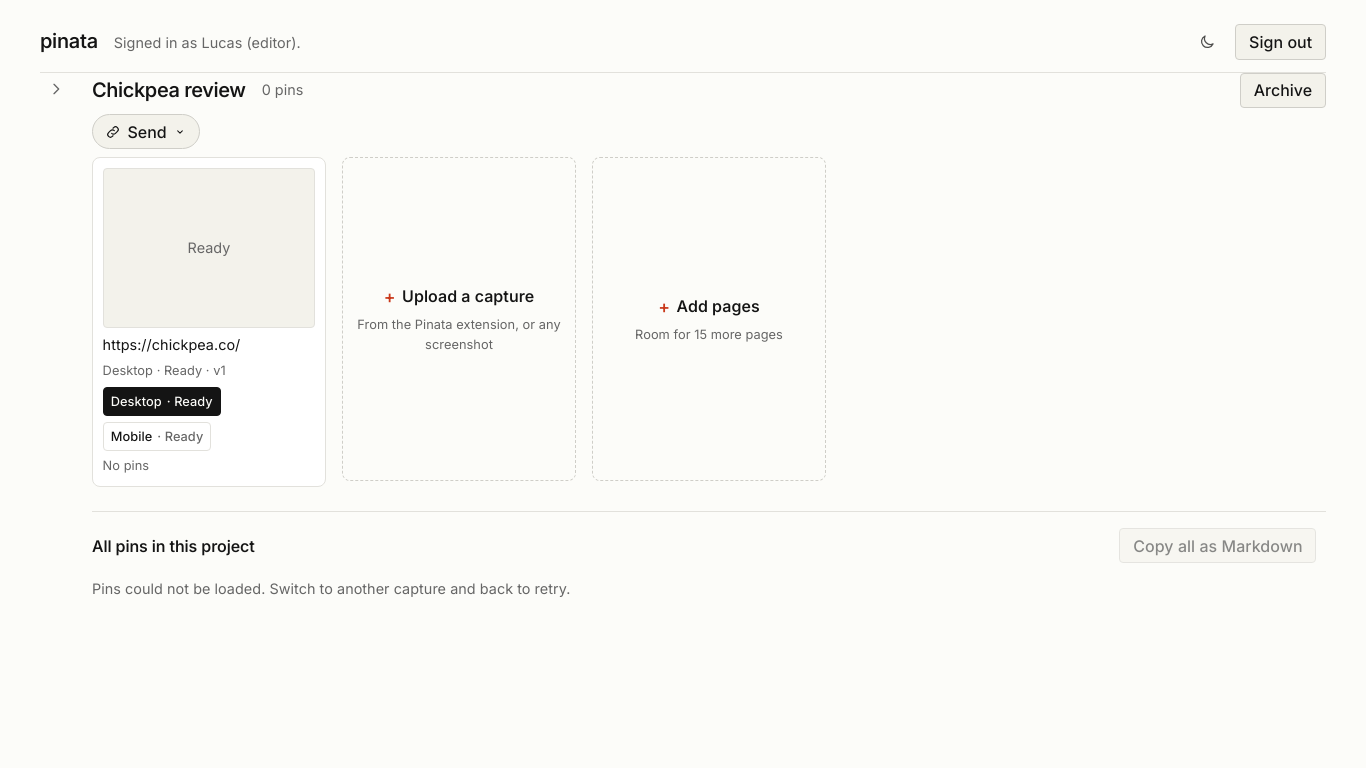
Test: editor project-entry states › a populated list names each project and keeps the single create action
Click the button named "Show projects" at (56, 89), box [40,73,72,105]
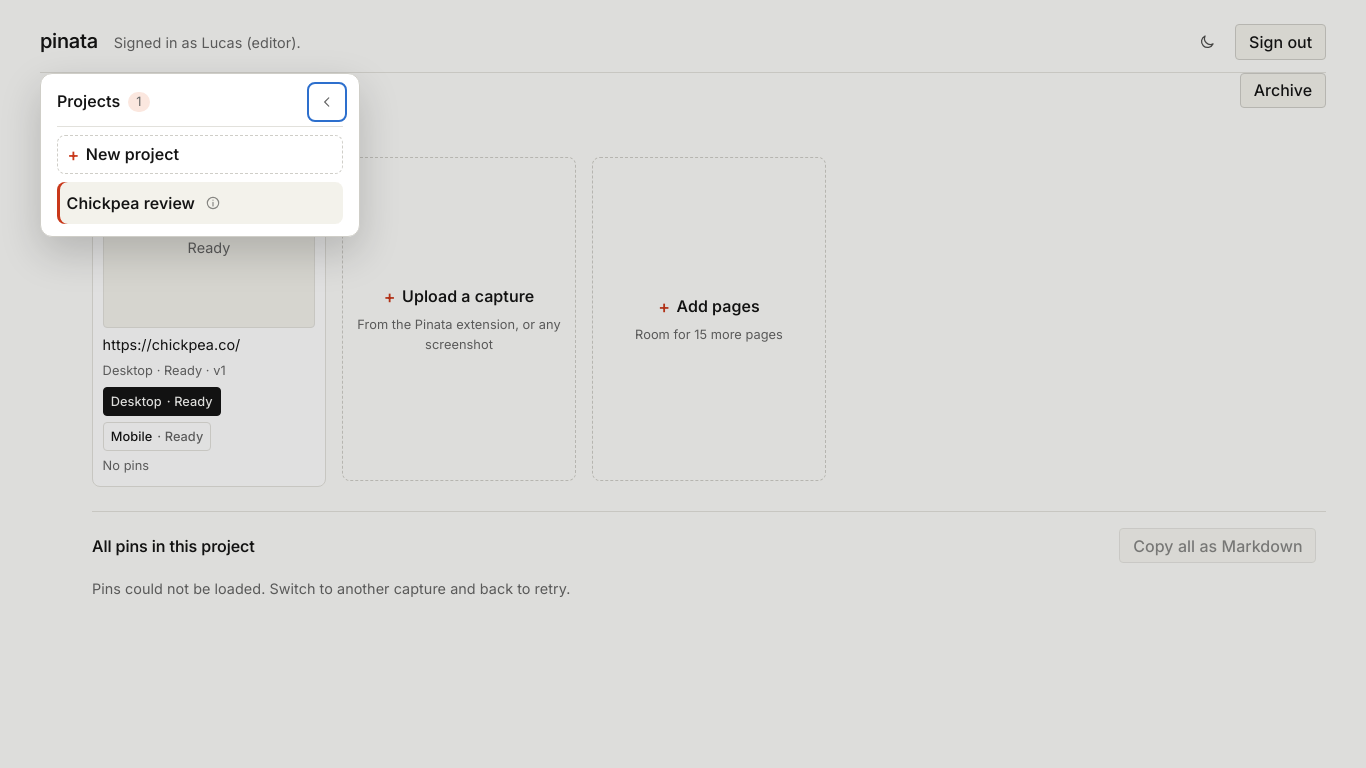
Check: the heading "Chickpea review" is shown, box [92,79,246,102]
Check: the number of links "+ New project" is 1, box [57,135,343,174]
Check: the navigation bar "Projects" is shown, box [40,73,360,237]
